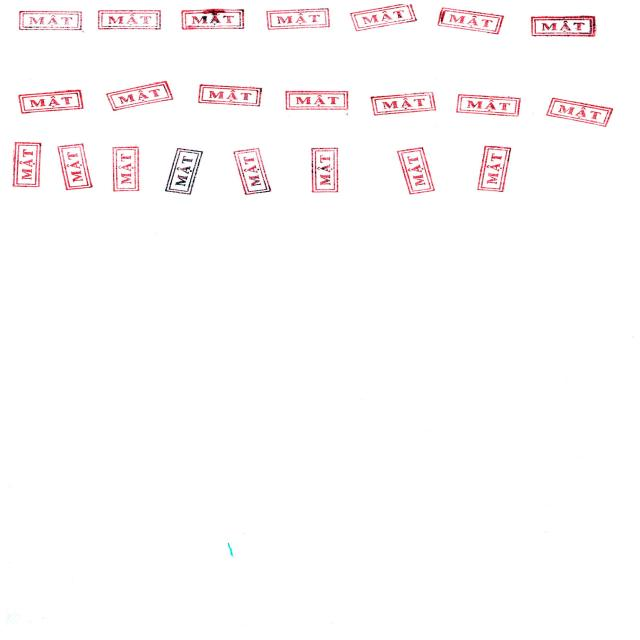mat: (1, 0, 92, 41), (224, 144, 281, 200), (155, 142, 213, 197), (430, 3, 513, 40), (175, 4, 258, 40), (393, 144, 446, 198), (545, 94, 618, 130), (55, 136, 97, 198), (101, 142, 148, 197), (102, 80, 180, 112), (348, 3, 422, 36), (369, 85, 441, 118), (474, 141, 514, 198), (263, 4, 337, 34), (95, 4, 166, 34), (452, 90, 526, 118), (196, 81, 266, 109), (528, 13, 599, 40), (282, 86, 351, 113)
mat doc: (0, 137, 51, 195)
mat doc 2: (301, 142, 345, 198)
mat nghieng: (0, 81, 95, 124)
